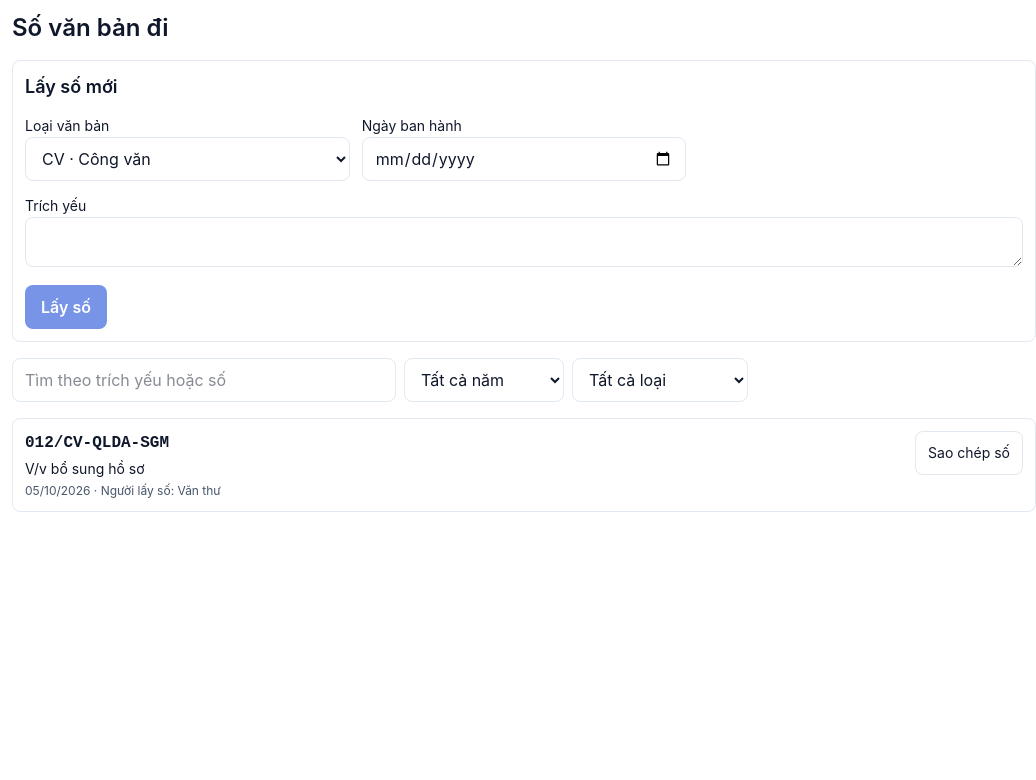
Test case: OutgoingDocsPage › issues a number and shows it
Expected: the text "012/CV-QLDA-SGM" is shown, [25,434,169,452]
Expected: the button "Lấy số" is disabled, [25,285,107,329]
Select "BC · Báo cáo" in the dropdown labelled "Loại văn bản" at (187, 159), box [25,137,350,181]
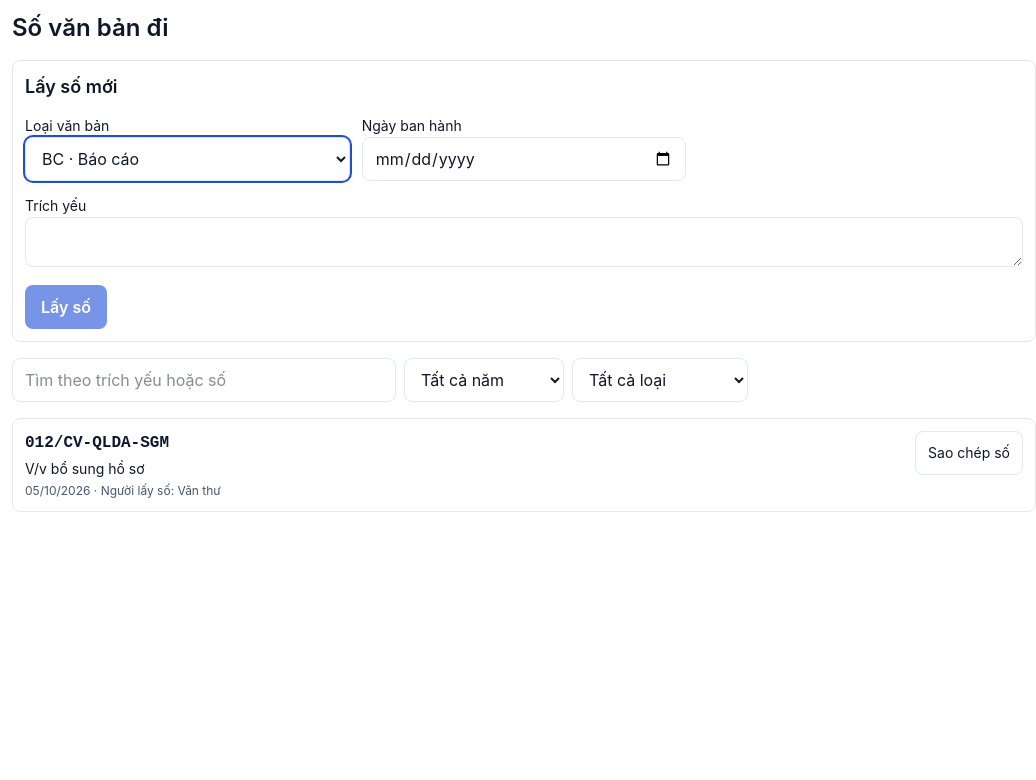
Type "Báo cáo tuần 41" into the text box labelled "Trích yếu".
click(524, 242); type("Báo cáo tuần 41")  # box [25,217,1023,267]
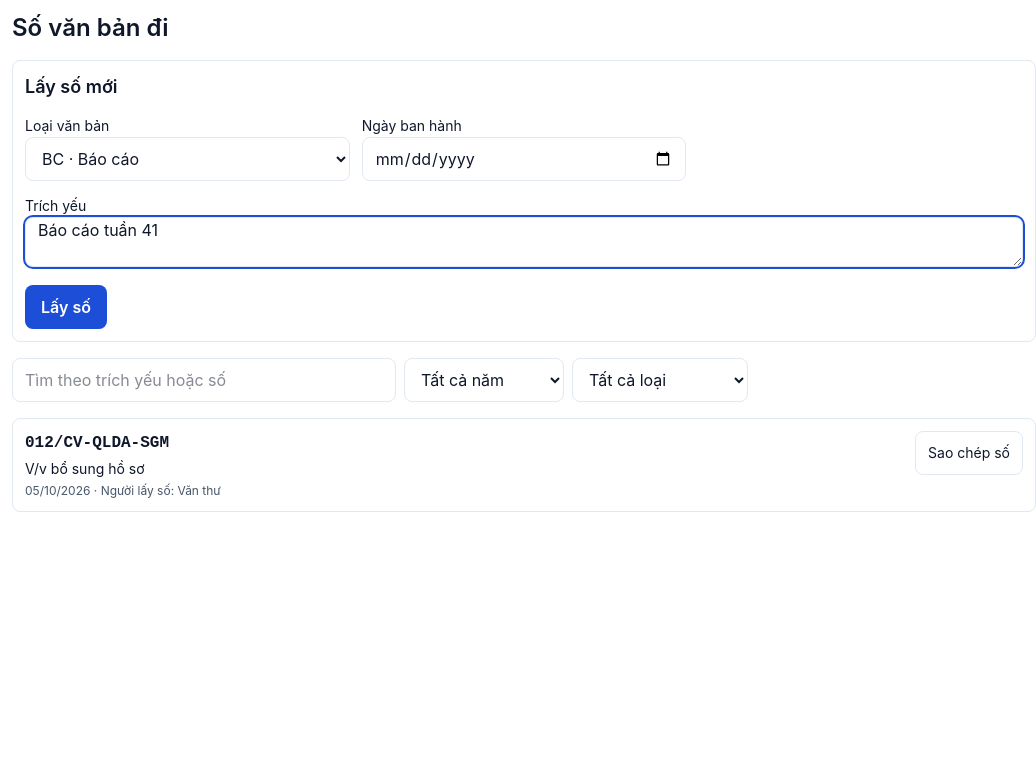
Click the button "Lấy số".
click(66, 307)  # box [25,285,107,329]
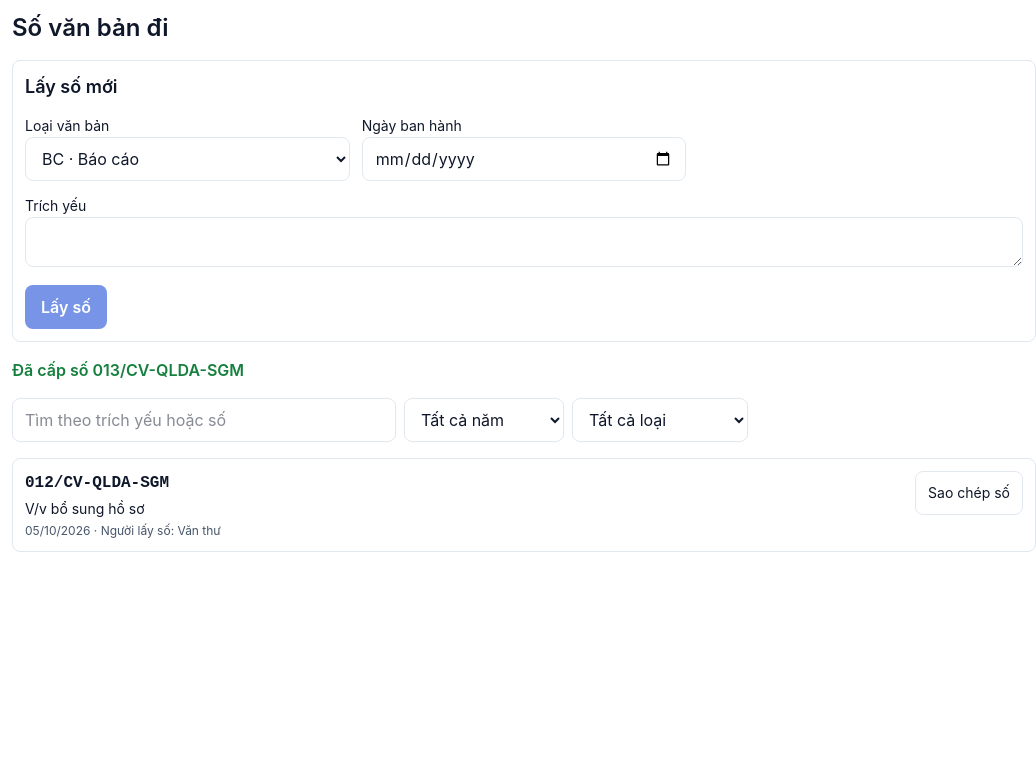
Expected: the text "Đã cấp số 013/CV-QLDA-SGM" is shown, [12,360,244,380]
